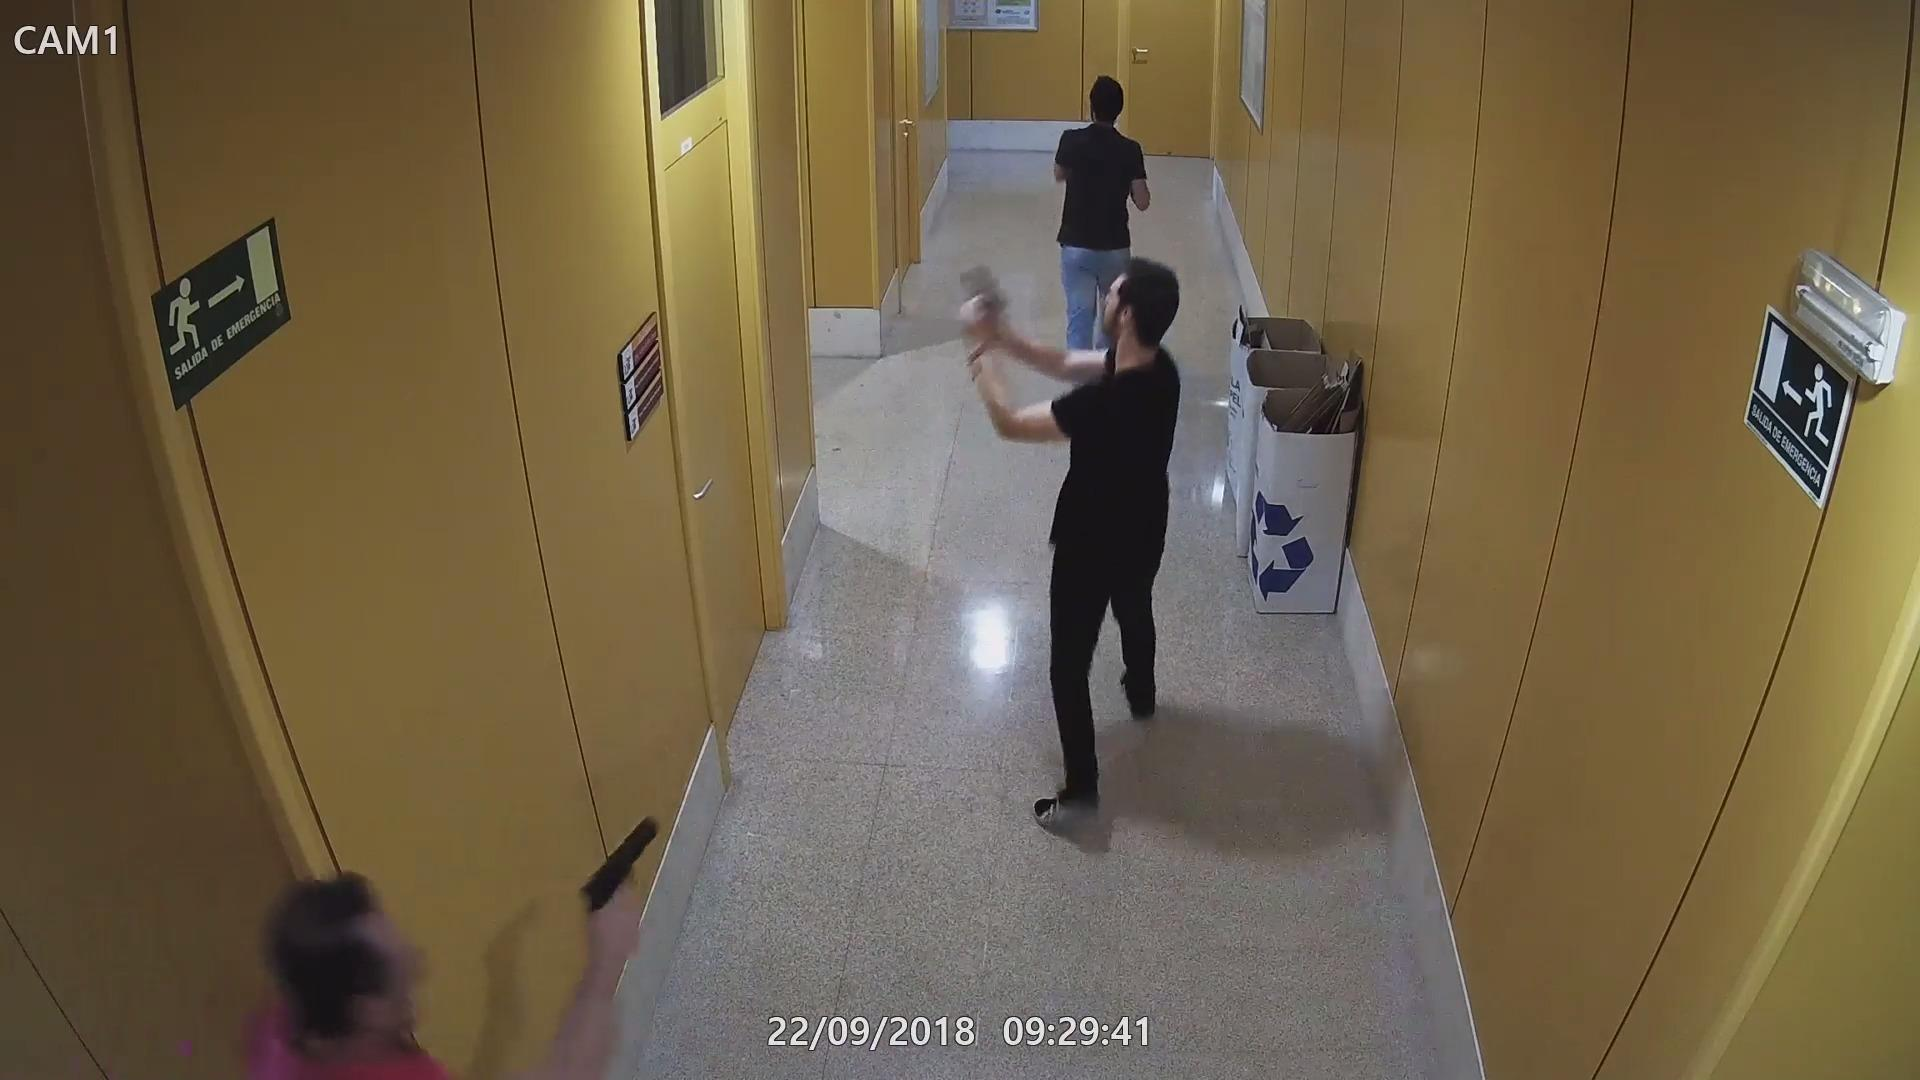Handgun: (579, 810, 665, 960), (953, 261, 1010, 351)
